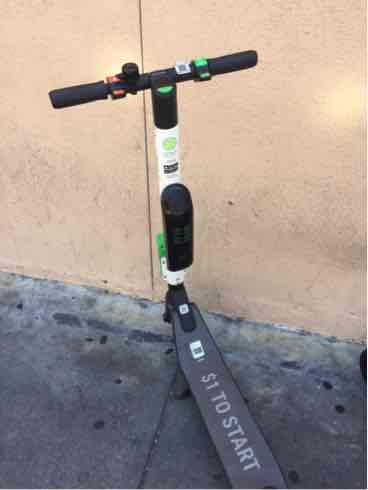scooter: (39, 67, 294, 490)
